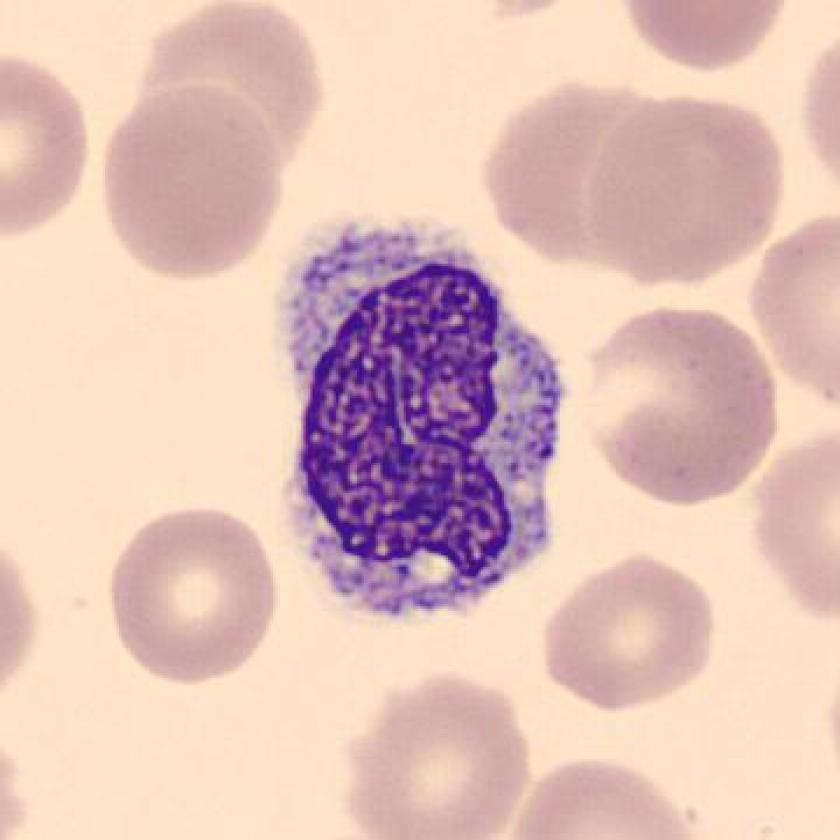monocyte: (241, 207, 589, 630)
